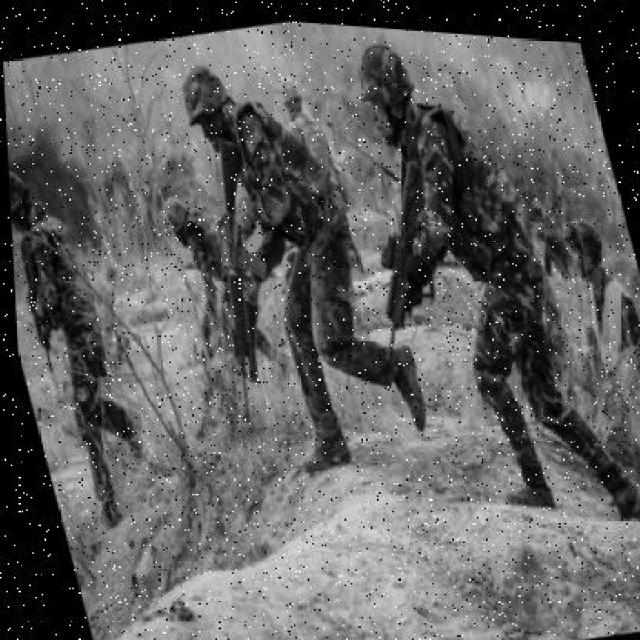MIL_Pax: (337, 24, 626, 522), (178, 44, 422, 478), (6, 151, 160, 537), (152, 169, 274, 382), (555, 205, 640, 408), (274, 56, 348, 166), (518, 192, 577, 290)
